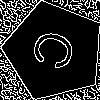C: (29, 26, 87, 77)
